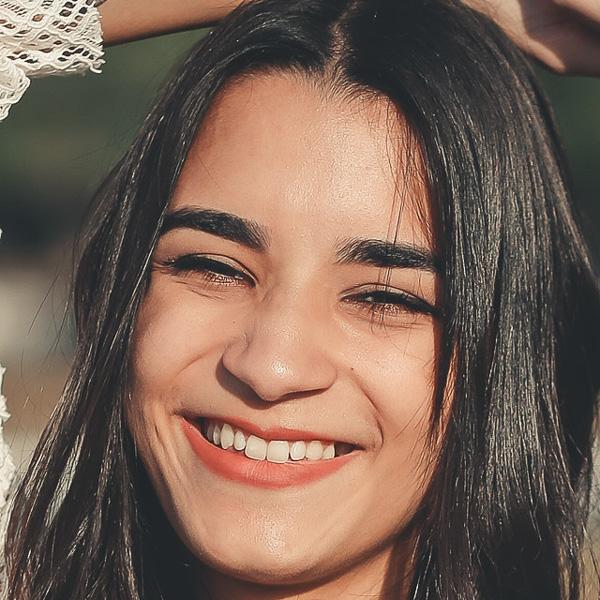Eyes: (328, 268, 444, 333), (156, 238, 262, 304)
